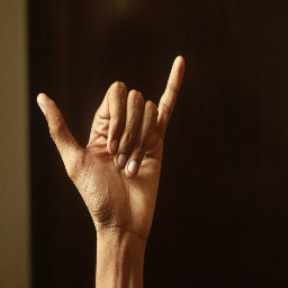J: (33, 42, 187, 212)
